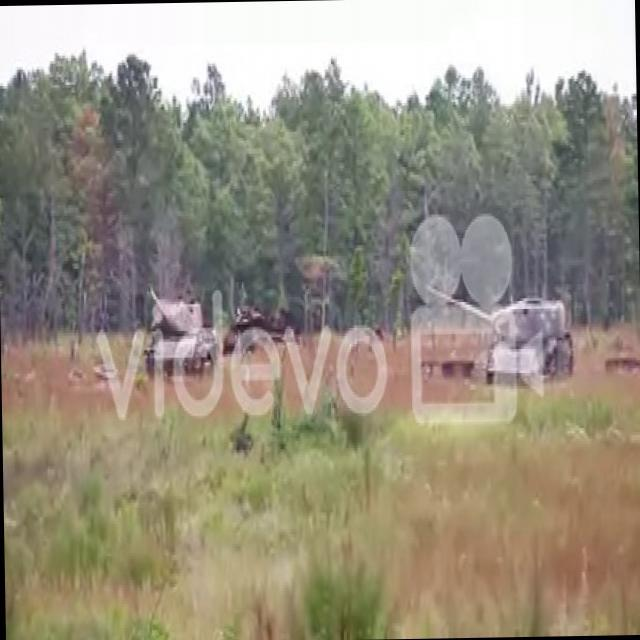rocket: (183, 306, 320, 359)
